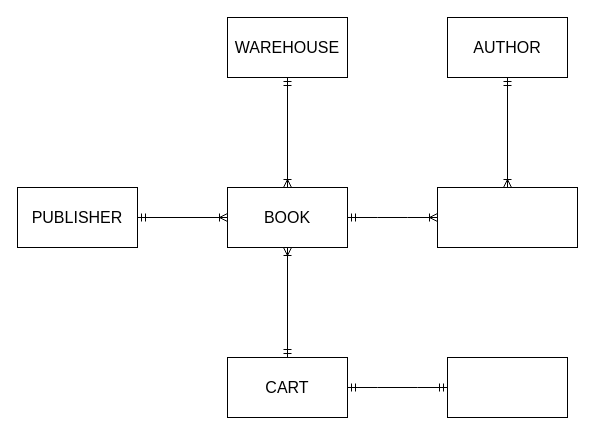
This 595x435 diagram has some shape labels left out. Each missing label, with the centre of its shape:
BOOK_AUTHOR: point 507,217
BUYER: point 507,387
